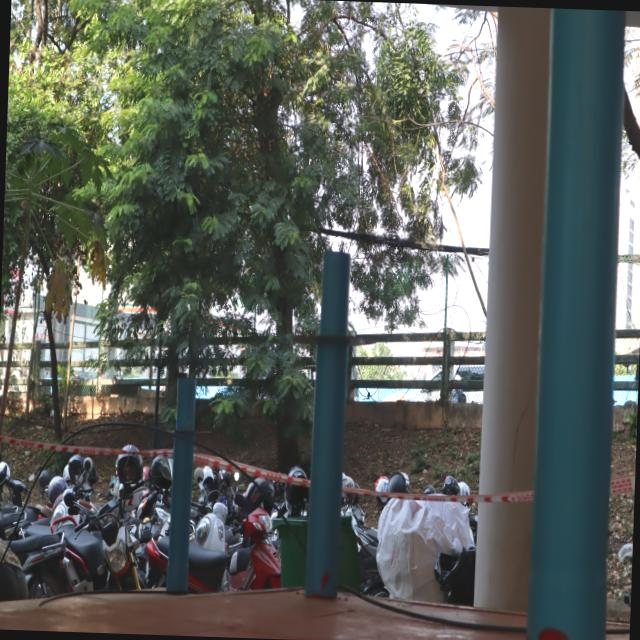pole: (289, 248, 372, 416), (158, 372, 212, 491)
